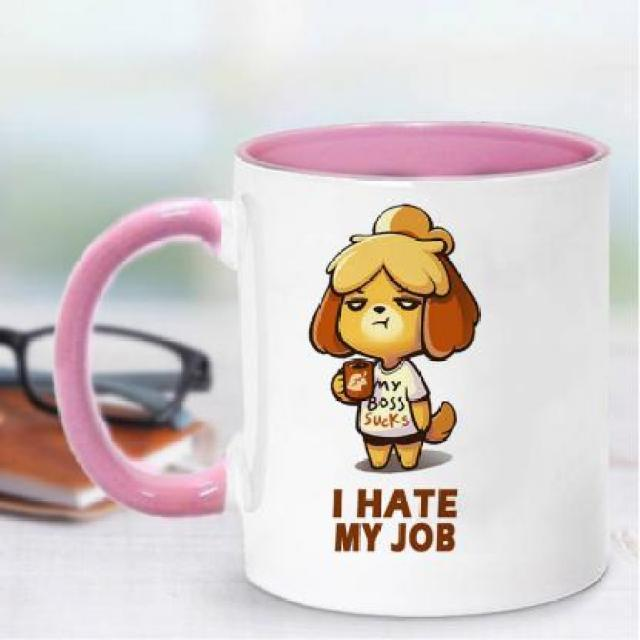taza: (43, 85, 623, 622)
